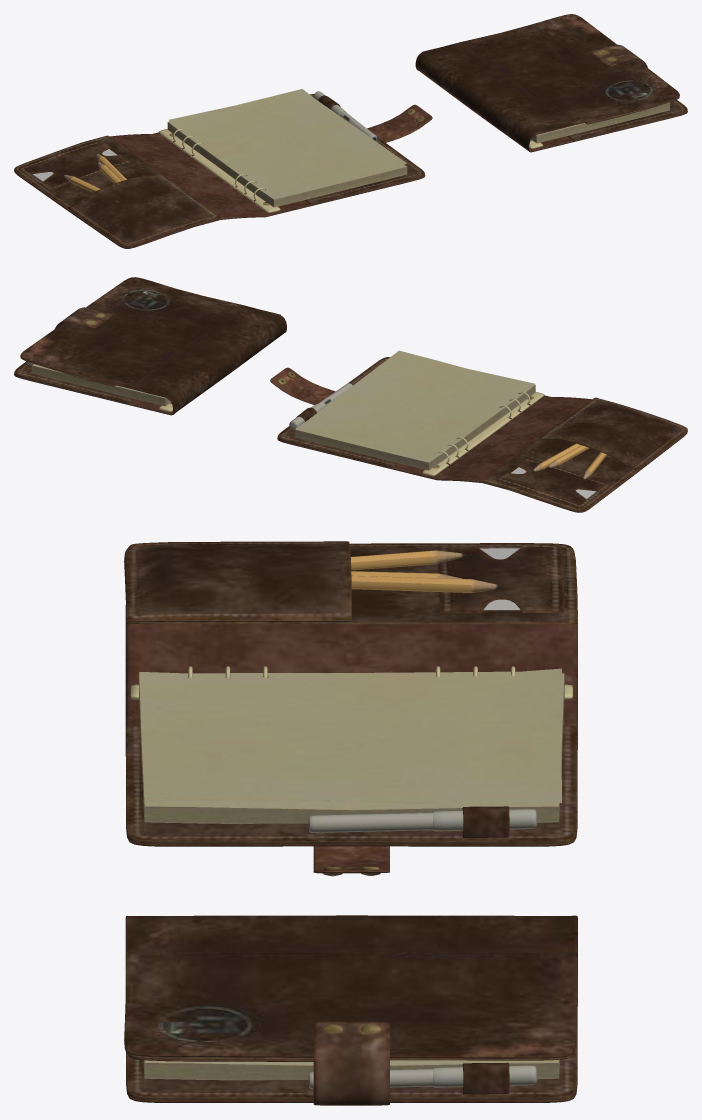
3 renders of one model, top to bottom at view 1: azimuth 30°, elevation 25°; view 2: azimuth 150°, elevation 25°; view 3: azimuth 270°, elevation 25°, orthographic. The views are drawn at different scales.
Visible parts, largest first — view 1: binder_notebook, binder_notebook_closed; view 2: binder_notebook, binder_notebook_closed; view 3: binder_notebook, binder_notebook_closed.
Part boxes in pixels (x1,y1,x2,y2): binder_notebook: (14, 89, 432, 248); binder_notebook_closed: (415, 14, 687, 152); binder_notebook: (270, 350, 687, 512); binder_notebook_closed: (14, 277, 286, 415); binder_notebook: (124, 541, 577, 876); binder_notebook_closed: (124, 915, 577, 1105).
Bounding box in the file's own units: 0.584 × 0.0253 × 0.2.
Materials: 1 (1 with a texture image).
